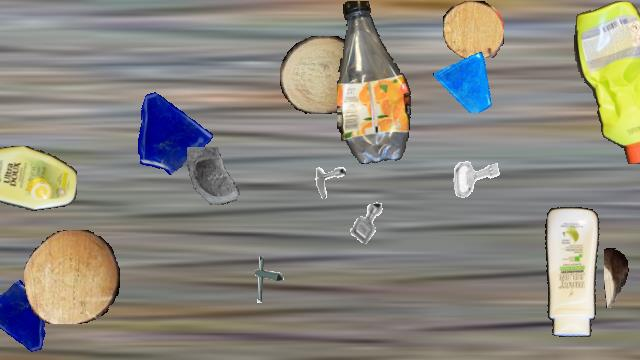glass: (125, 85, 215, 175), (181, 147, 249, 215), (0, 280, 59, 358), (433, 50, 495, 112), (639, 148, 640, 214)
metal: (445, 148, 505, 208), (339, 195, 395, 251), (240, 253, 292, 305), (304, 156, 346, 198)
plastic: (337, 1, 413, 163), (573, 1, 640, 163), (538, 207, 602, 337), (0, 146, 76, 212)
wood: (24, 230, 120, 324), (280, 36, 362, 114), (443, 1, 503, 59), (604, 248, 628, 308)
